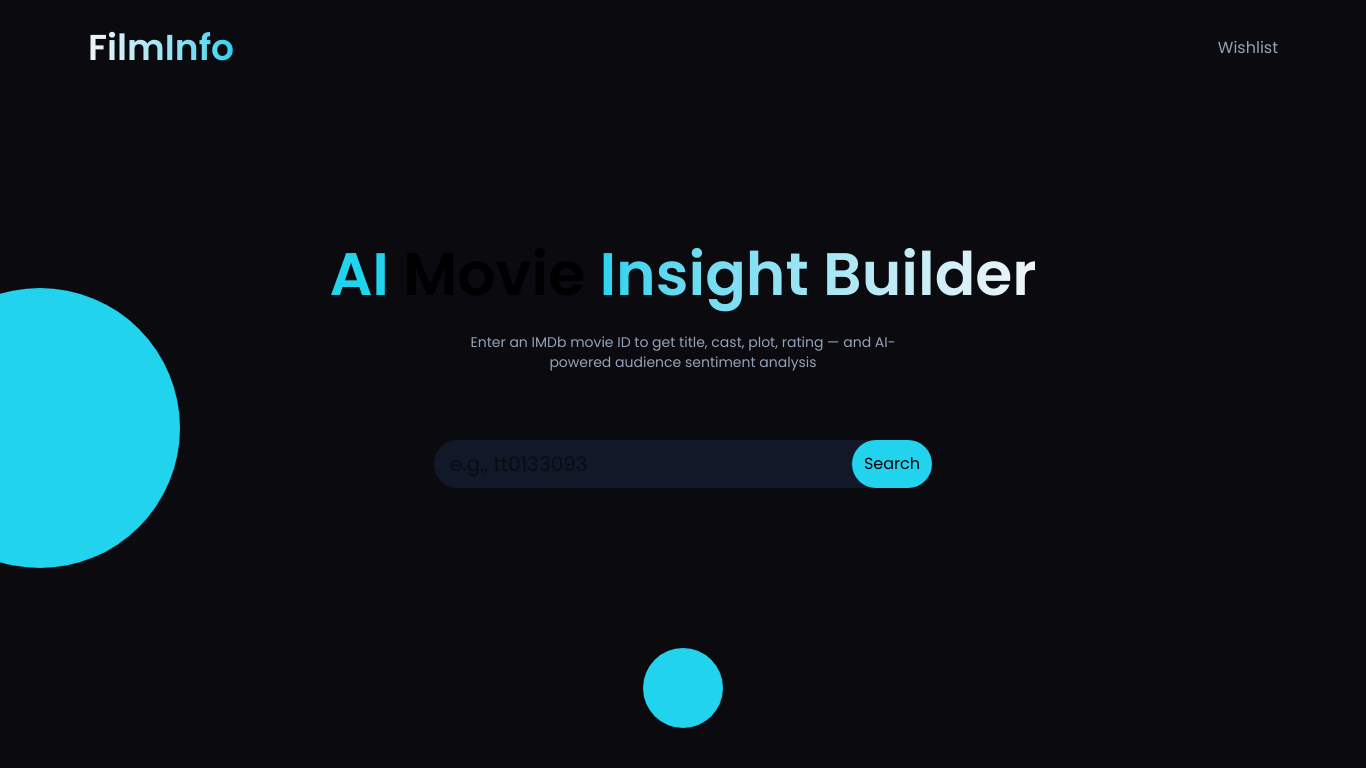
Test case: Home Page › shows validation error for invalid IMDb ID format
Type "hello123" into the field with placeholder "e.g., tt0133093" at (643, 464), box [434,440,852,488]
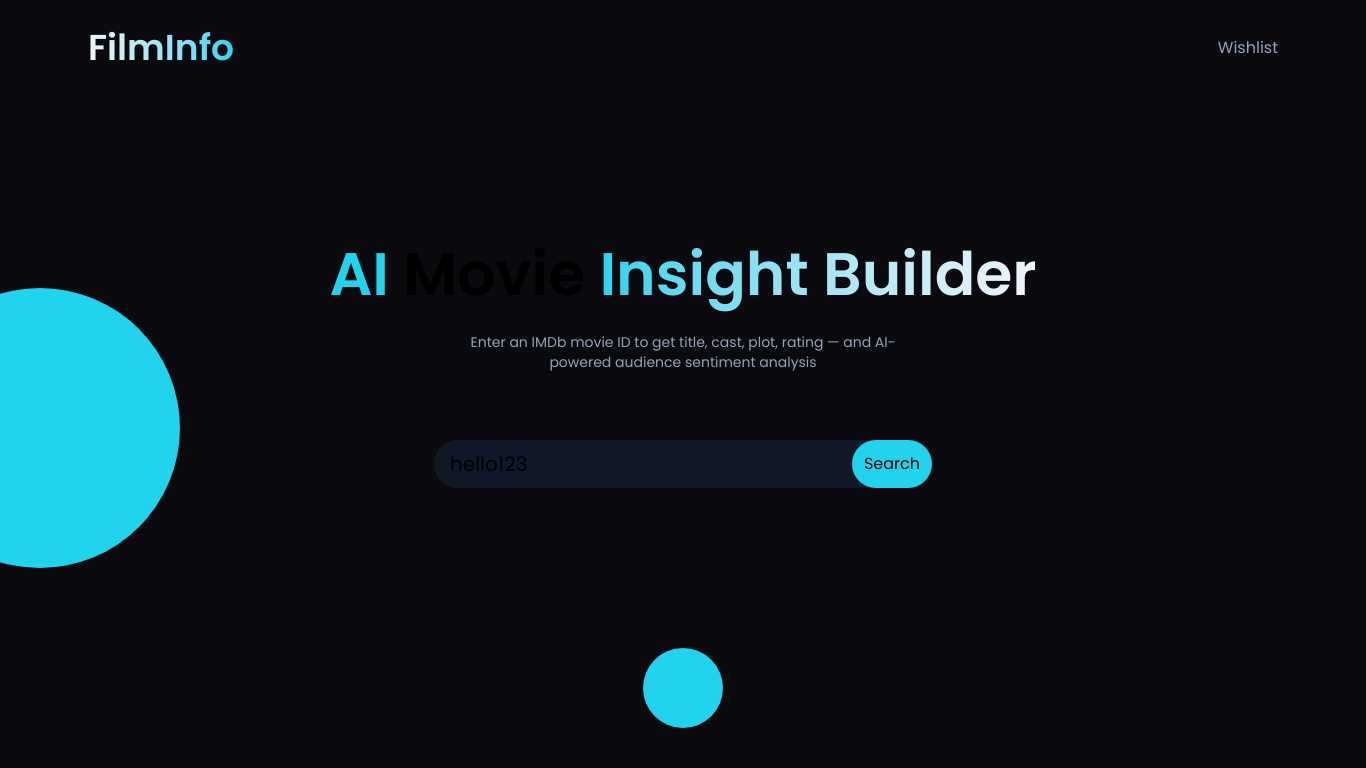
Click the button "Search" at (892, 464), box [852,440,932,488]
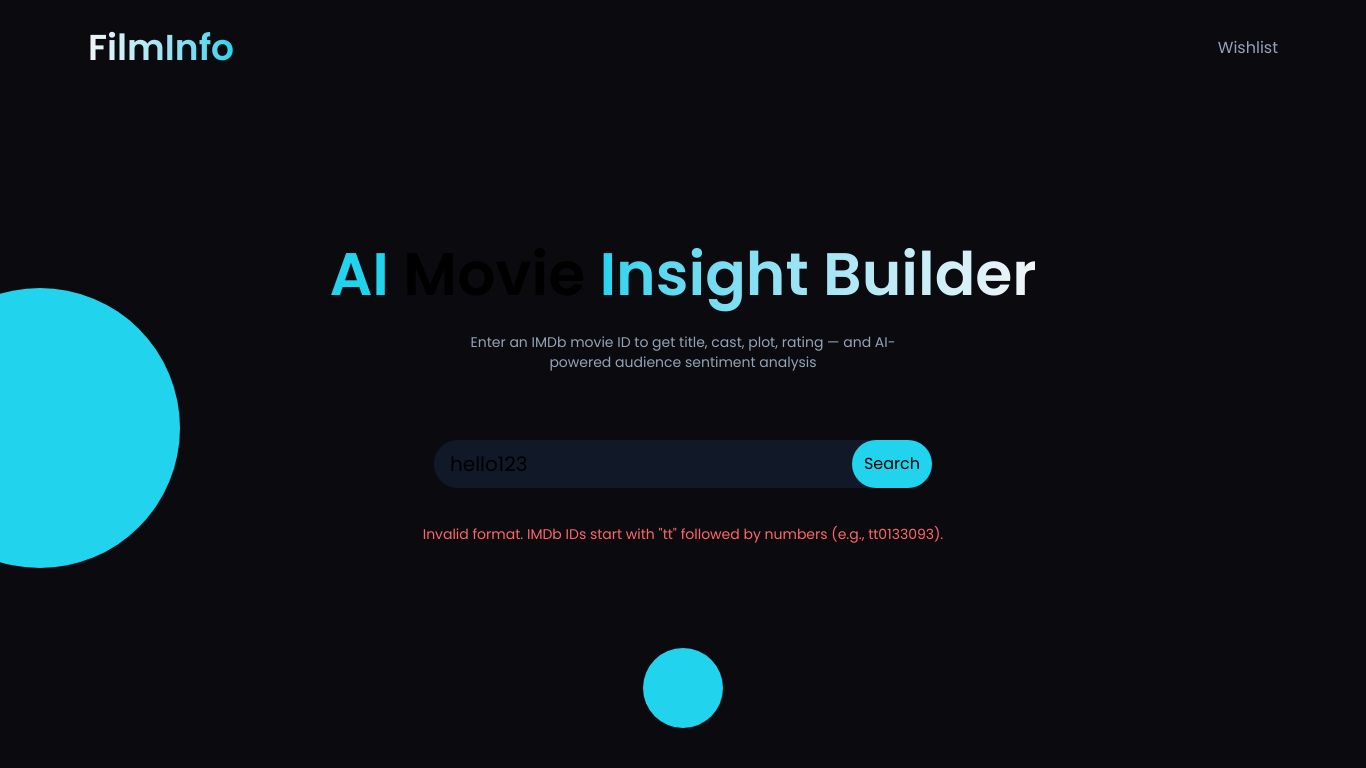
Check: the text "Invalid format. IMDb IDs start with" is shown, box [423,524,943,544]
